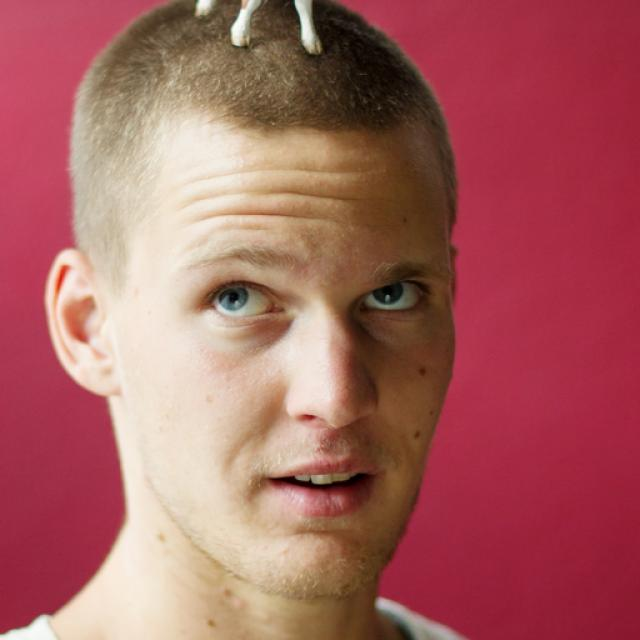Wrinkle: (172, 182, 361, 220), (180, 157, 385, 188), (195, 196, 349, 231)
